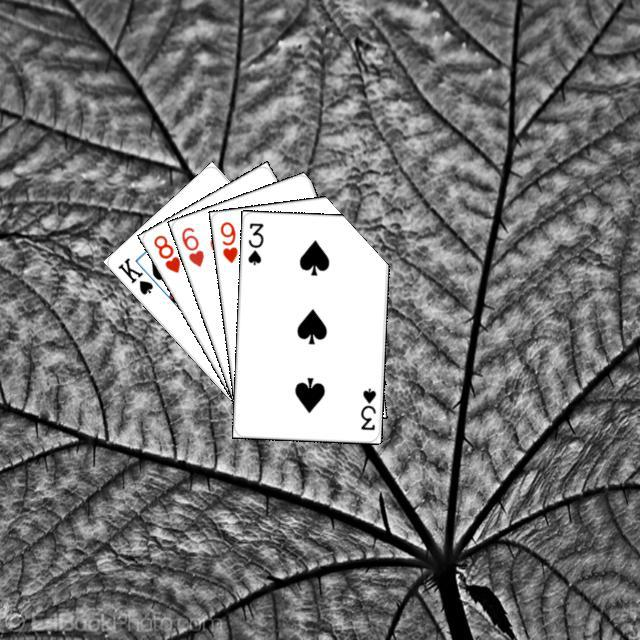3s: (243, 218, 265, 267), (355, 383, 377, 432)
6h: (176, 222, 206, 269)
8h: (148, 230, 182, 275)
9h: (215, 217, 239, 265)
Ks: (113, 252, 155, 296)
